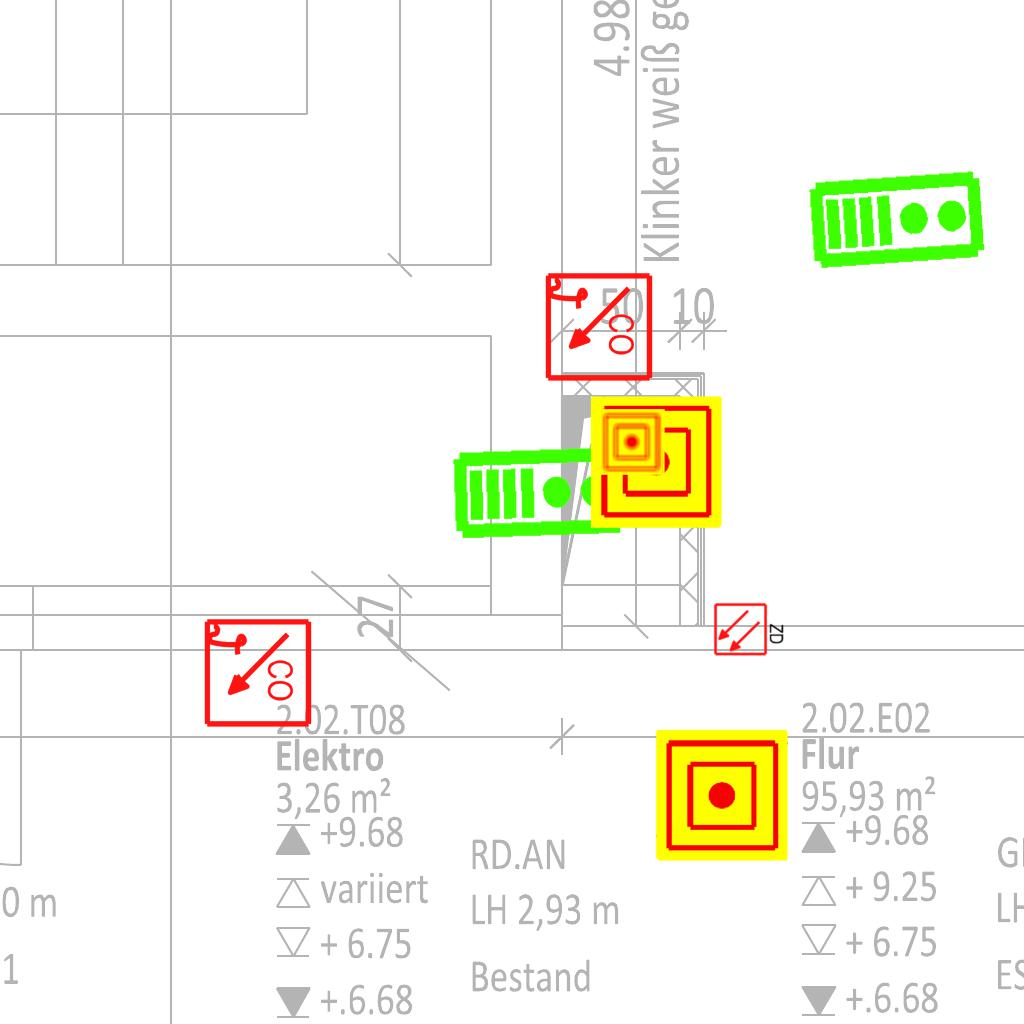Gegensprechanlage_mit_Video: (806, 164, 989, 272), (450, 440, 631, 542)
NAM-Nichtautomatischer_Melder: (656, 729, 788, 861), (590, 396, 722, 528), (599, 409, 665, 475)
ROA_Rauchmelder_optisch_mit_Signalgeber_(Sockelsirene): (541, 271, 654, 384), (200, 617, 313, 730)
ZD_Melder_in_Zwischendecke_mit_Revisionsoeffnung_mind_40_x_40_cm: (713, 600, 787, 657)
